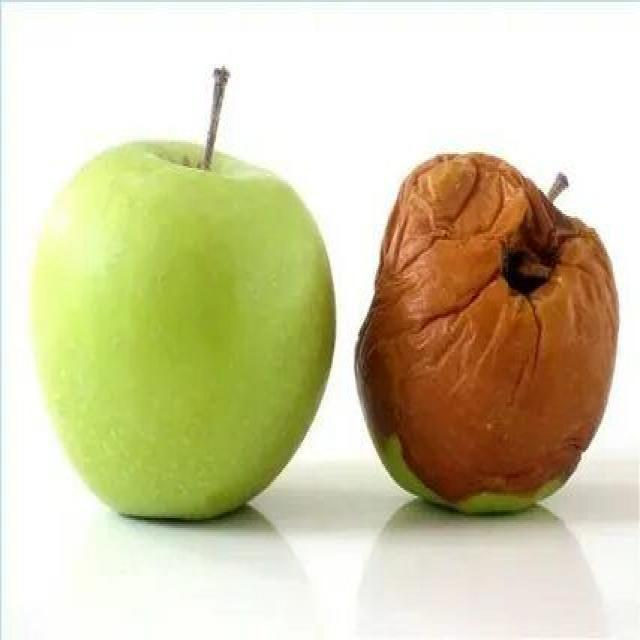Fresh Apple: (45, 140, 327, 520)
Rotten: (350, 165, 617, 512)
